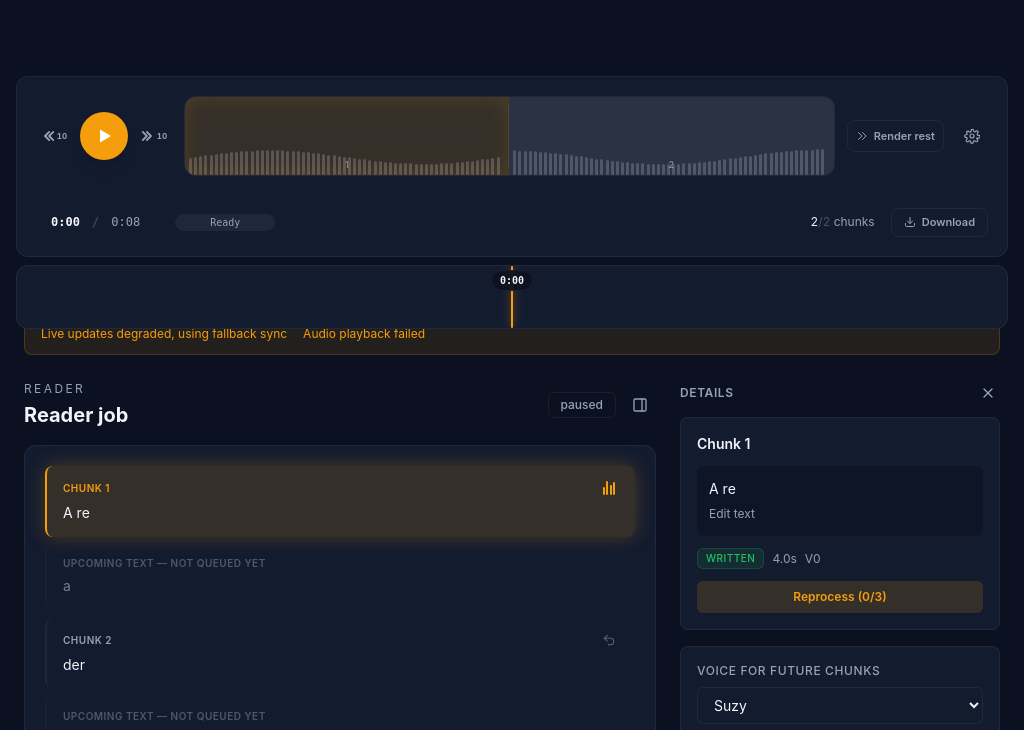
Scenario: hiding the conveyor removes the strip
The width and height of the screenshot is (1024, 730).
Expected: the heading "Reader job" is shown, [24, 401, 128, 429]
Expected: the element with test id "chunk-conveyor" is shown, [16, 265, 1008, 329]
Step 1. Click the button named "Reader settings" → (972, 136), box [956, 120, 988, 152]
(page scrolled)
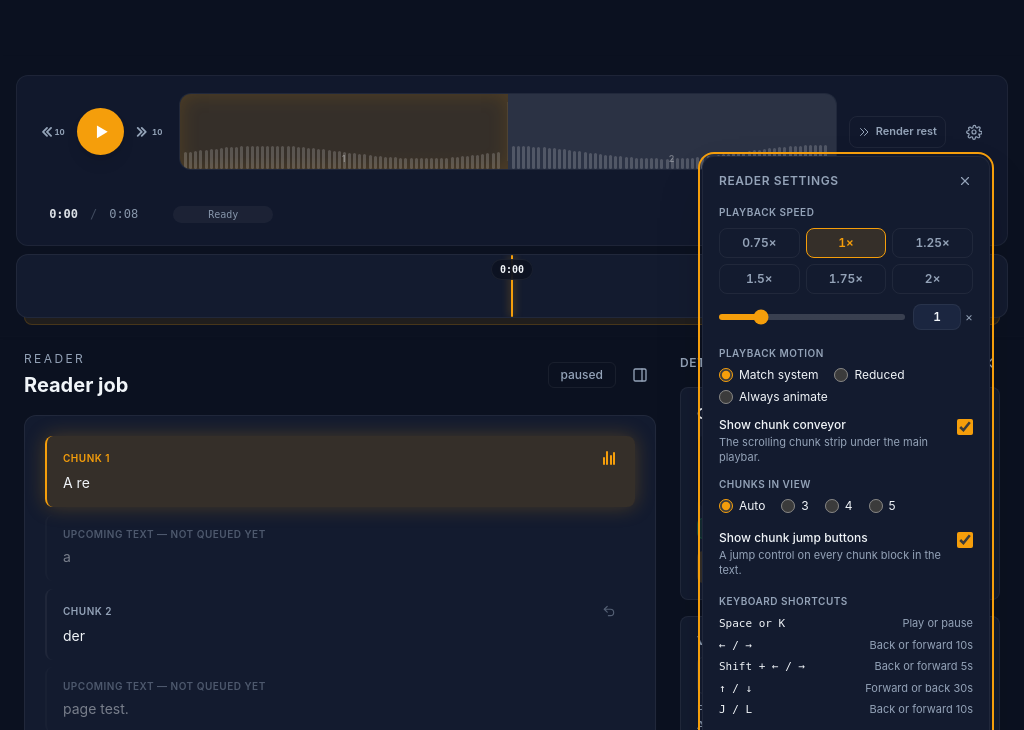
Step 2. Click the checkbox labelled "Show chunk conveyor" → (965, 427), box [957, 419, 973, 435]
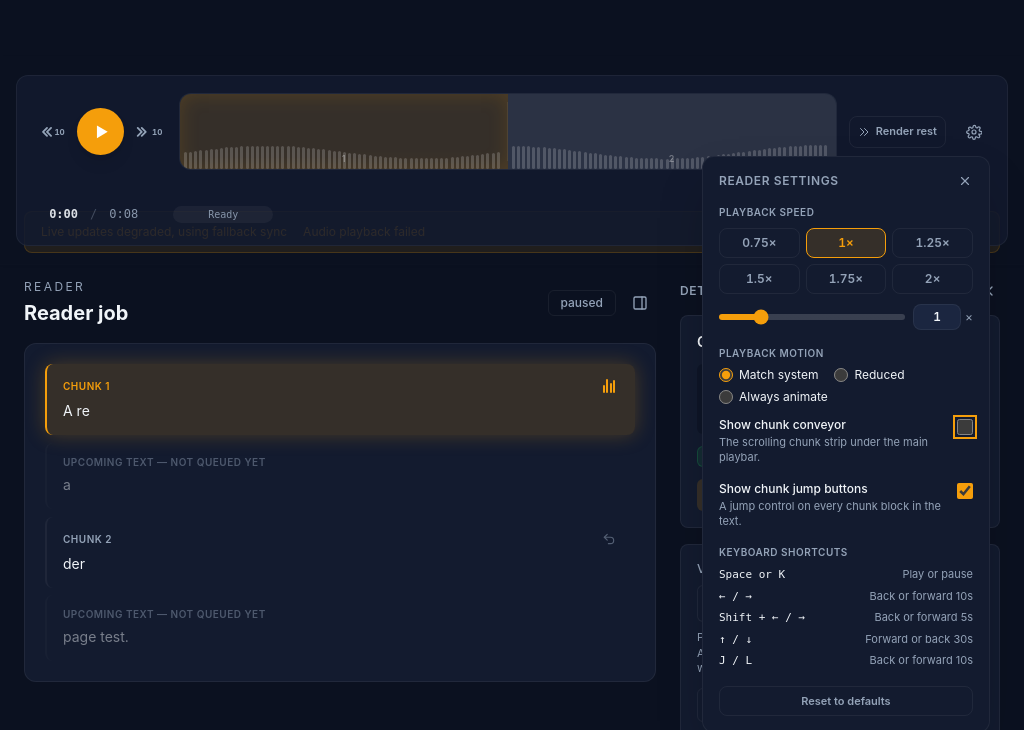
Result: the element with test id "chunk-conveyor" is gone
